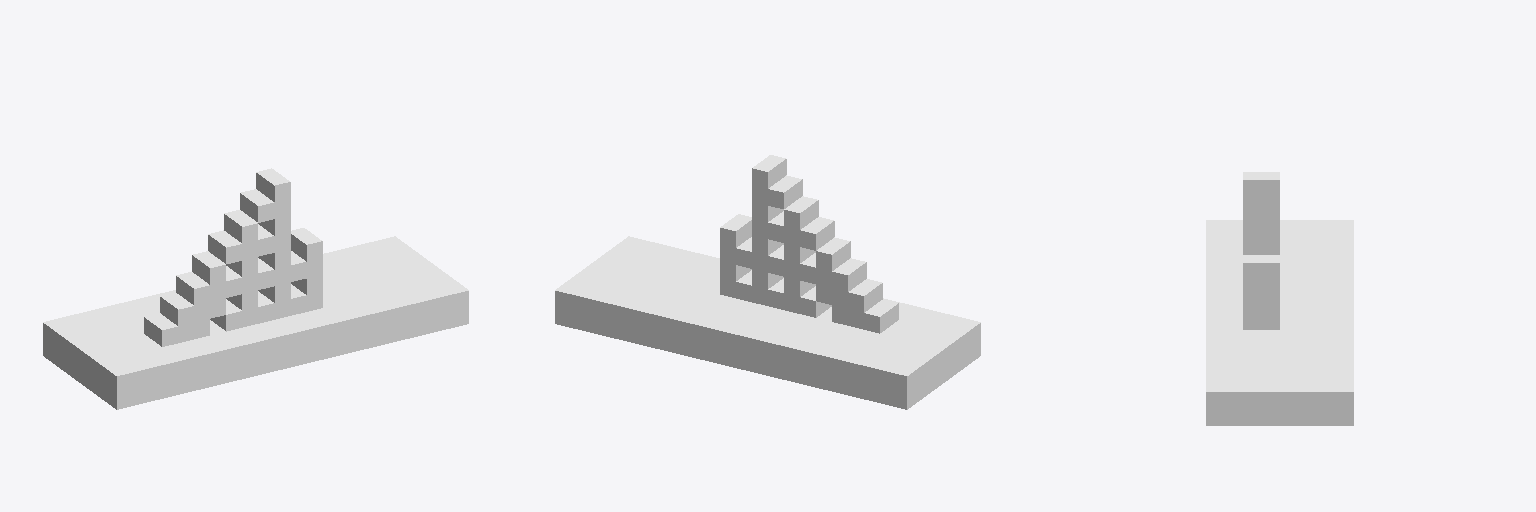
Rendered from sadas.obj.
3 views of the same model, side by side, from view 1: azimuth 30°, elevation 25°; view 2: azimuth 150°, elevation 25°; view 3: azimuth 270°, elevation 25° (orthographic).
Visible parts, largest first — view 1: New_World_(2)__-4_-61_-10_to_6_319_-7; view 2: New_World_(2)__-4_-61_-10_to_6_319_-7; view 3: New_World_(2)__-4_-61_-10_to_6_319_-7.
Part boxes in pixels (x1,y1,x2,y2): New_World_(2)__-4_-61_-10_to_6_319_-7: (43, 168, 468, 409); New_World_(2)__-4_-61_-10_to_6_319_-7: (555, 155, 980, 409); New_World_(2)__-4_-61_-10_to_6_319_-7: (1206, 172, 1353, 425).
Size of the model in its own units: 38.5 by 17.5 by 14.